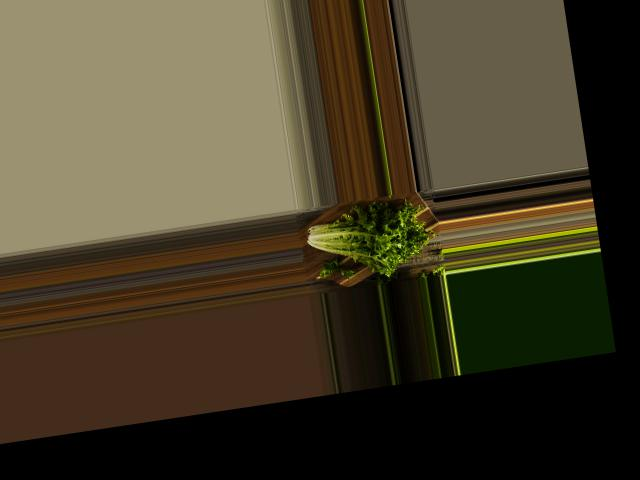lettuce: (296, 194, 433, 286)
